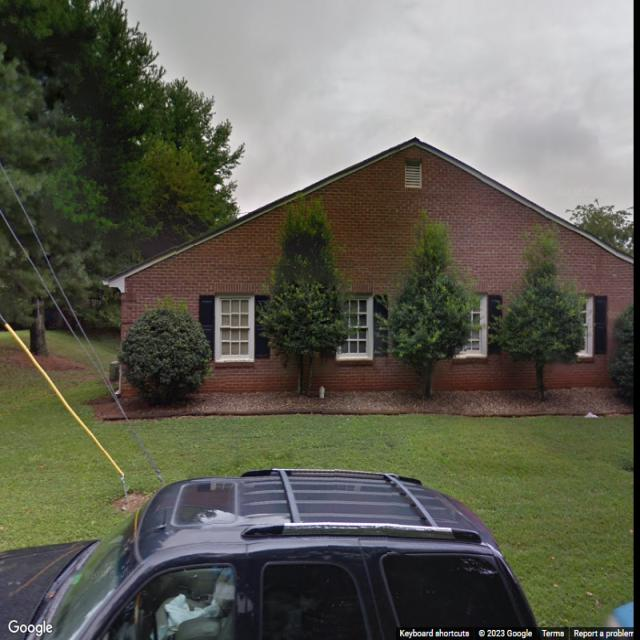House: (102, 136, 634, 397)
